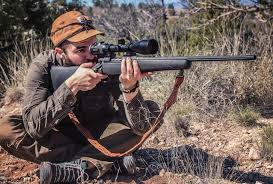Gun: (97, 44, 210, 86)
